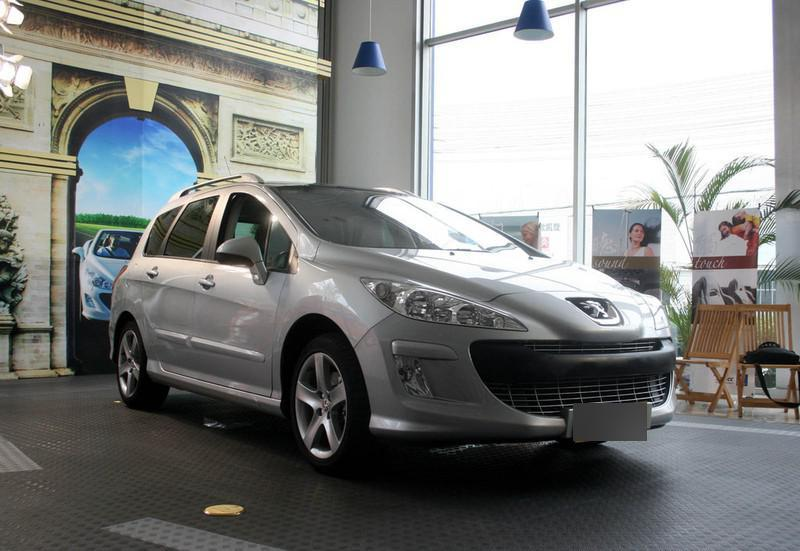Wagon: (107, 171, 678, 475)
